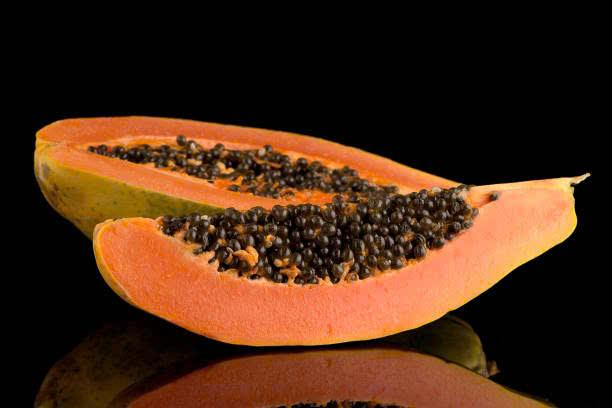papaya: (75, 172, 582, 351), (18, 105, 504, 188)
